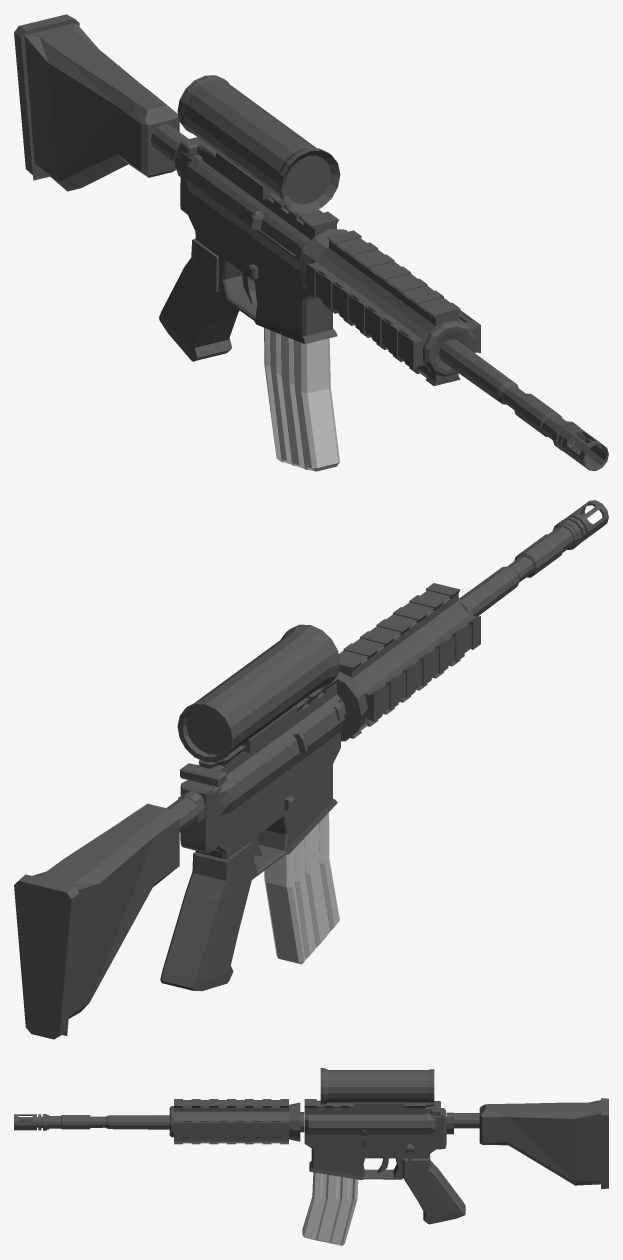
3 renders of one model, top to bottom at view 1: azimuth 30°, elevation 25°; view 2: azimuth 150°, elevation 25°; view 3: azimuth 270°, elevation 25°, orthographic. The views are drawn at different scales.
Parts seen in each view (by area): view 1: AR_Base; view 2: AR_Base; view 3: AR_Base.
Part boxes in pixels (bbox=[...]): AR_Base: bbox=[14, 14, 608, 471]; AR_Base: bbox=[14, 500, 608, 1039]; AR_Base: bbox=[14, 1068, 608, 1245].
Size of the model in its own units: 0.3649 by 1.66 by 5.16.
